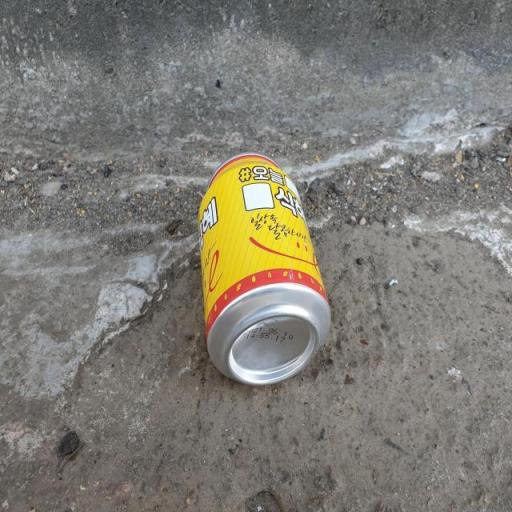metal: (182, 148, 340, 392)
